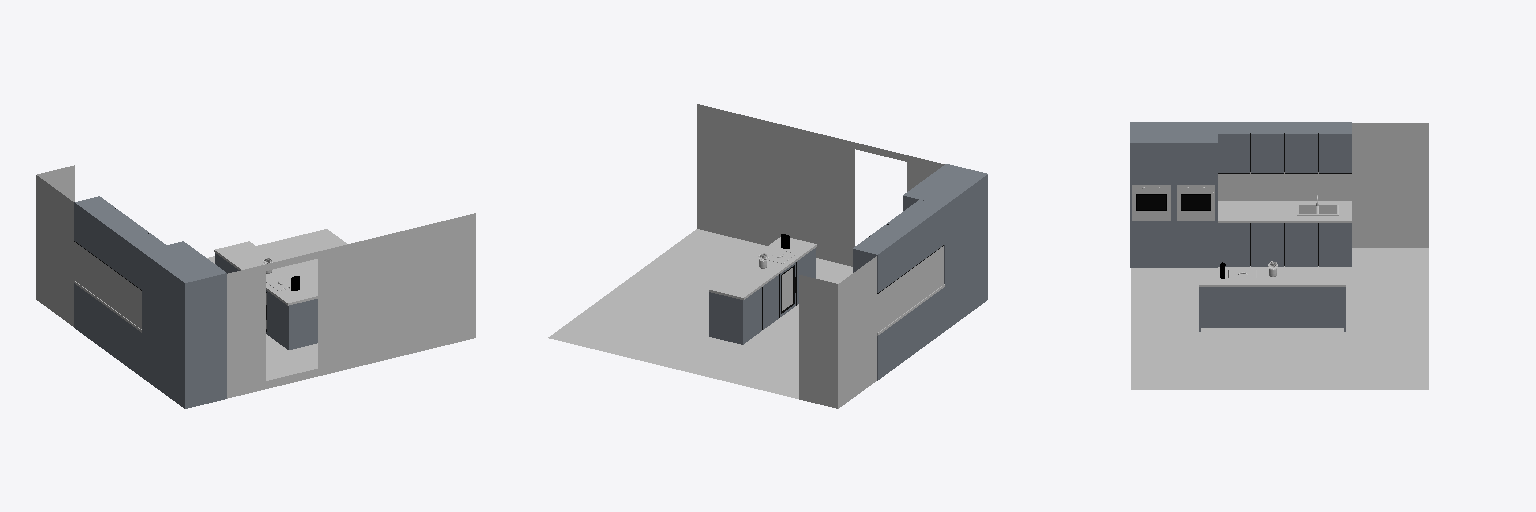
File: ModifiedKitchen_v5.obj
The picture shows the model from 3 angles: view 1: azimuth 30°, elevation 25°; view 2: azimuth 150°, elevation 25°; view 3: azimuth 270°, elevation 25°; orthographic projection.
Visible parts, largest first — view 1: WindowWall_Wall, Cupboards_Cupboard, WindowWall.002_Wall, Floor_Wall, Tiles_Tiles, Counters_Counter, WindowWall.001_Wall; view 2: WindowWall_Wall, Floor_Wall, Cupboards_Cupboard, WindowWall.002_Wall, WindowWall.001_Wall, Tiles_Tiles, Counters_Counter; view 3: Floor_Wall, Cupboards_Cupboard, WindowWall.002_Wall, Counters_Counter, Tiles_Tiles, Ovens_Oven, Ovens_OvenWindow, Hob_Material.001.
Part boxes in pixels (x1,y1,x2,y2): WindowWall_Wall: (227, 213, 475, 398); Cupboards_Cupboard: (74, 196, 317, 408); WindowWall.002_Wall: (36, 175, 75, 326); Floor_Wall: (207, 229, 346, 380); Tiles_Tiles: (76, 243, 141, 328); Counters_Counter: (74, 241, 317, 332); WindowWall.001_Wall: (37, 165, 74, 201); WindowWall_Wall: (697, 104, 944, 266); Floor_Wall: (548, 229, 852, 398); Cupboards_Cupboard: (709, 164, 987, 380); WindowWall.002_Wall: (838, 256, 877, 408); WindowWall.001_Wall: (799, 275, 837, 408); Tiles_Tiles: (878, 246, 943, 331); Counters_Counter: (709, 237, 944, 335); Floor_Wall: (1131, 248, 1428, 389); Cupboards_Cupboard: (1130, 122, 1351, 331); WindowWall.002_Wall: (1350, 123, 1428, 247); Counters_Counter: (1199, 201, 1351, 286); Tiles_Tiles: (1218, 172, 1349, 200); Ovens_Oven: (1132, 185, 1214, 220); Ovens_OvenWindow: (1137, 195, 1210, 209); Hob_Material.001: (1234, 204, 1282, 216).
Bounding box in the file's own units: 13.42 × 5.54 × 11.93.